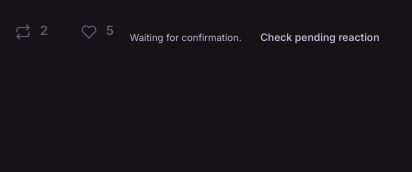
Test: verified connected-user reactions › keeps pending reactions disabled until the session resolves an uncertain attempt
Click the button "Check pending reaction": (320, 37) [244, 18, 396, 57]
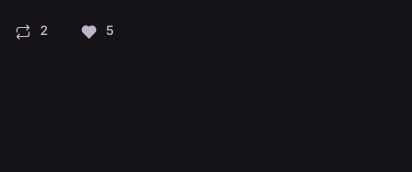
Now the button "5" is enabled, box [64, 12, 130, 51]
